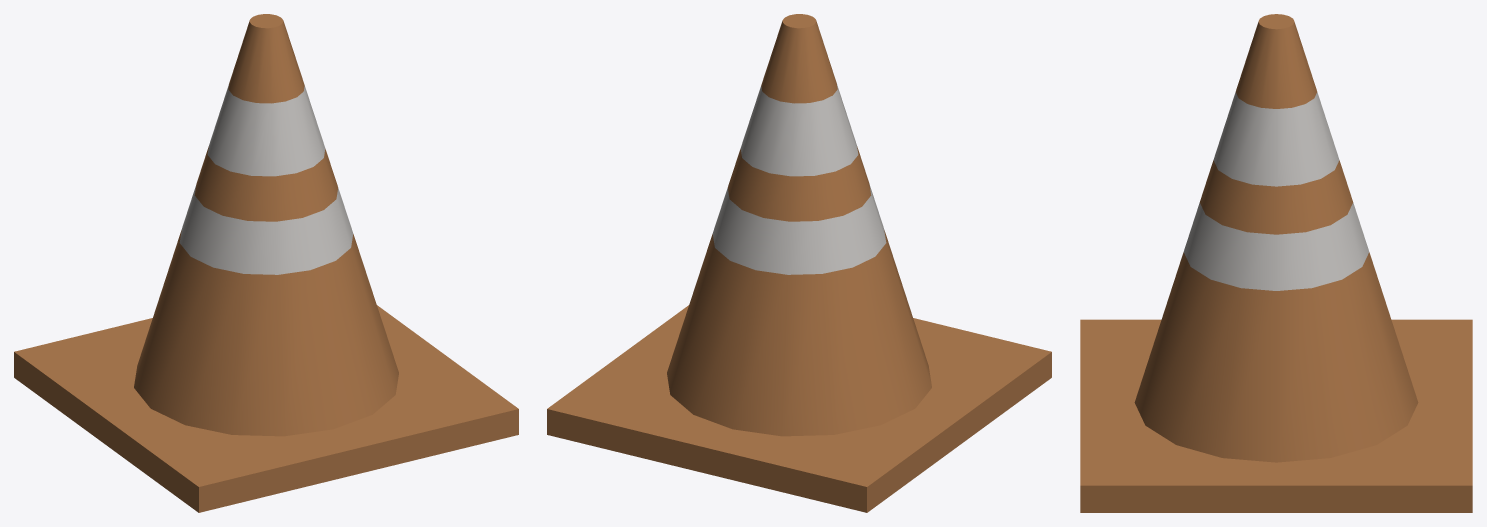
Rendered from traffic cone.fbx.
The picture shows the model from 3 angles, left to right: view 1: azimuth 30°, elevation 25°; view 2: azimuth 150°, elevation 25°; view 3: azimuth 270°, elevation 25°; orthographic projection. The views are drawn at different scales.
Parts seen in each view (by area): view 1: pCylinder2; view 2: pCylinder2; view 3: pCylinder2.
Part boxes in pixels (bbox=[...]): pCylinder2: bbox=[14, 14, 518, 512]; pCylinder2: bbox=[547, 14, 1051, 512]; pCylinder2: bbox=[1080, 14, 1472, 512].
Size of the model in its own units: 2.07 by 2.37 by 2.07.
